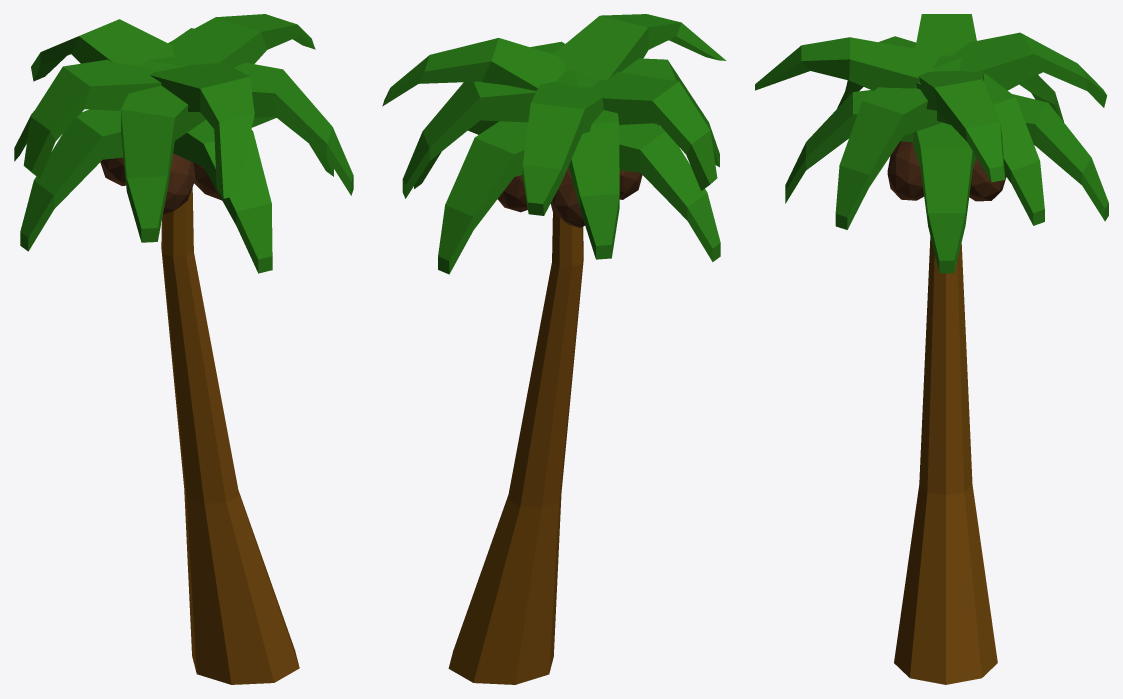
The model's file is Palm Tree.fbx.
3 views of the same model, side by side, from view 1: azimuth 30°, elevation 25°; view 2: azimuth 150°, elevation 25°; view 3: azimuth 270°, elevation 25° (orthographic). The views are drawn at different scales.
Parts seen in each view (by area): view 1: Palm Tree, Coconut 3, Coconut 2; view 2: Palm Tree, Coconut 2, Coconut 4, Coconut 3; view 3: Palm Tree, Coconut 1, Coconut 4.
Part boxes in pixels (x1=…): Palm Tree: x1=14, y1=14, x2=353, y2=684; Coconut 3: x1=163, y1=153, x2=195, y2=214; Coconut 2: x1=100, y1=157, x2=125, y2=185; Palm Tree: x1=382, y1=14, x2=726, y2=684; Coconut 2: x1=550, y1=167, x2=584, y2=227; Coconut 4: x1=497, y1=175, x2=527, y2=212; Coconut 3: x1=619, y1=170, x2=642, y2=199; Palm Tree: x1=755, y1=14, x2=1108, y2=684; Coconut 1: x1=887, y1=141, x2=924, y2=200; Coconut 4: x1=969, y1=158, x2=1006, y2=201.
Size of the model in its own units: 333 by 641 by 353.
